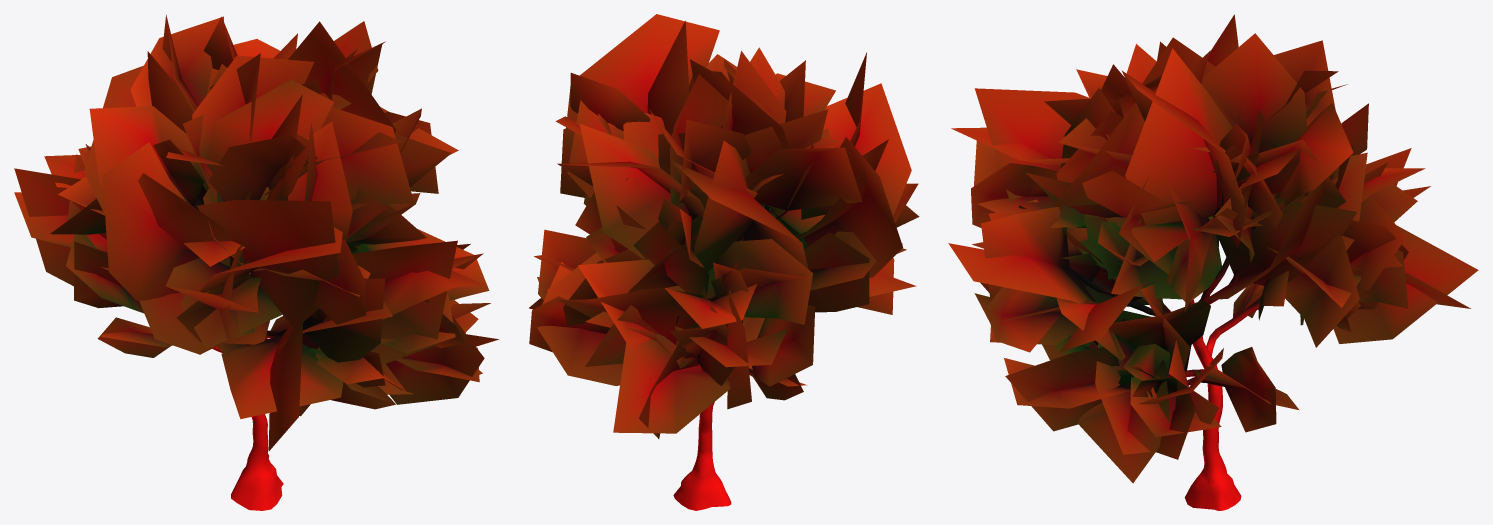
Rendered from ShrubTree_C.fbx.
The picture shows the model from 3 angles, left to right: view 1: azimuth 30°, elevation 25°; view 2: azimuth 150°, elevation 25°; view 3: azimuth 270°, elevation 25°; orthographic projection. The views are drawn at different scales.
Visible parts, largest first — view 1: ShrubTree_C_Leaves_LOD0, ShrubTree_C_Bark_LOD0; view 2: ShrubTree_C_Leaves_LOD0, ShrubTree_C_Bark_LOD0; view 3: ShrubTree_C_Leaves_LOD0, ShrubTree_C_Bark_LOD0.
Part boxes in pixels (left/top/right/bottom): ShrubTree_C_Leaves_LOD0: left=14, top=14, right=498, bottom=451; ShrubTree_C_Bark_LOD0: left=188, top=198, right=306, bottom=510; ShrubTree_C_Leaves_LOD0: left=529, top=14, right=919, bottom=438; ShrubTree_C_Bark_LOD0: left=673, top=204, right=800, bottom=510; ShrubTree_C_Leaves_LOD0: left=948, top=14, right=1478, bottom=483; ShrubTree_C_Bark_LOD0: left=1060, top=193, right=1261, bottom=510.
Size of what is drawn, in the model's own units: 945 by 1140 by 1151.
